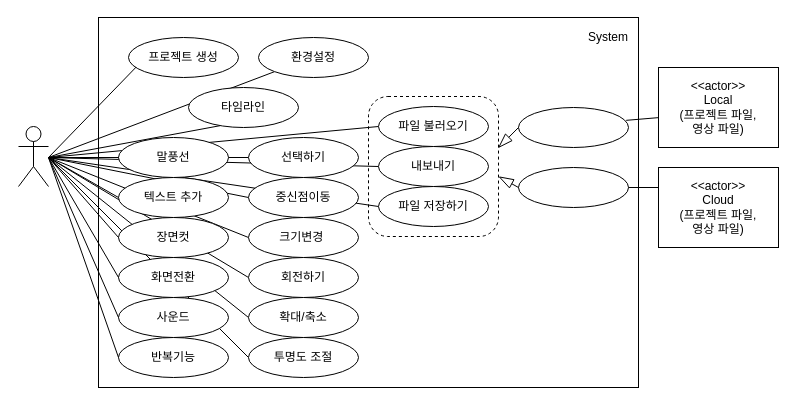
Image size: 796x405. Some labels were removed from this diagram. Each missing label, with the box of its shape:
Cloud 이용: (518, 166, 628, 208)
Local 이용: (518, 106, 628, 148)
사용자: (18, 126, 48, 186)
